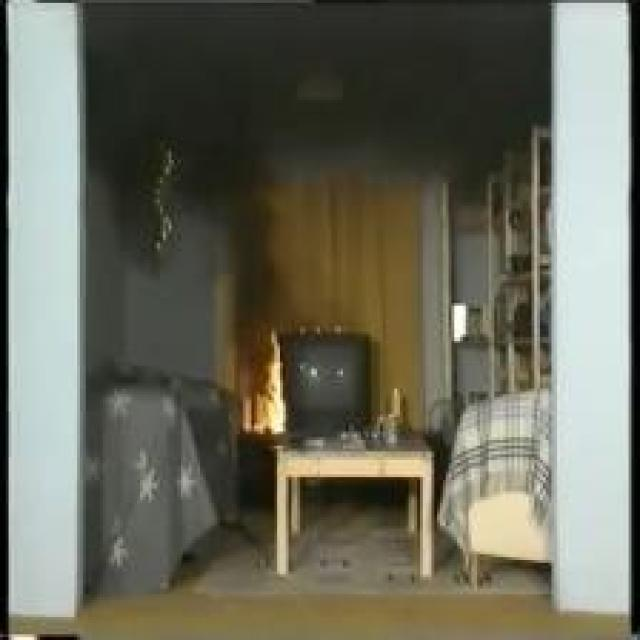fire: (237, 324, 288, 438)
smoke: (90, 6, 531, 171), (175, 121, 302, 339)
